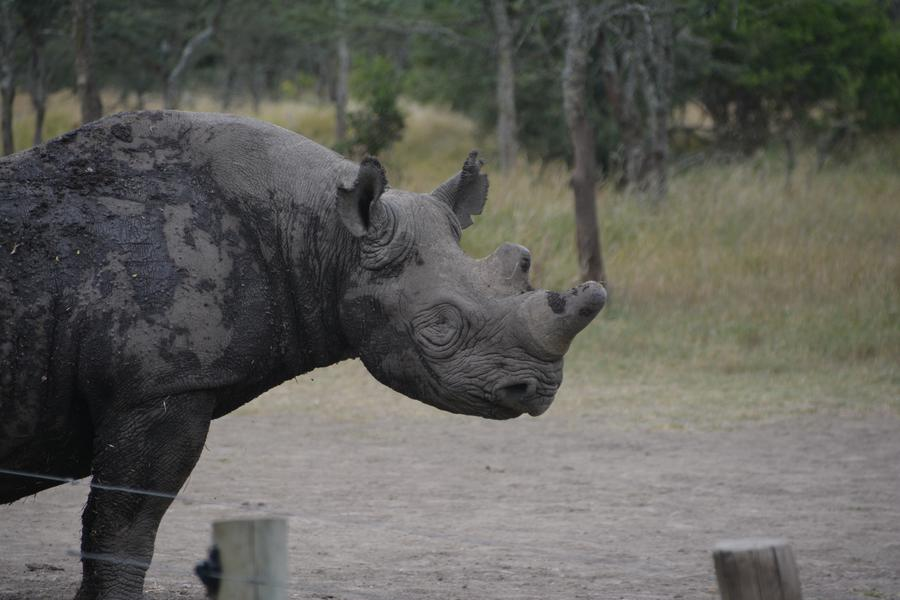rhino: (7, 105, 546, 520)
